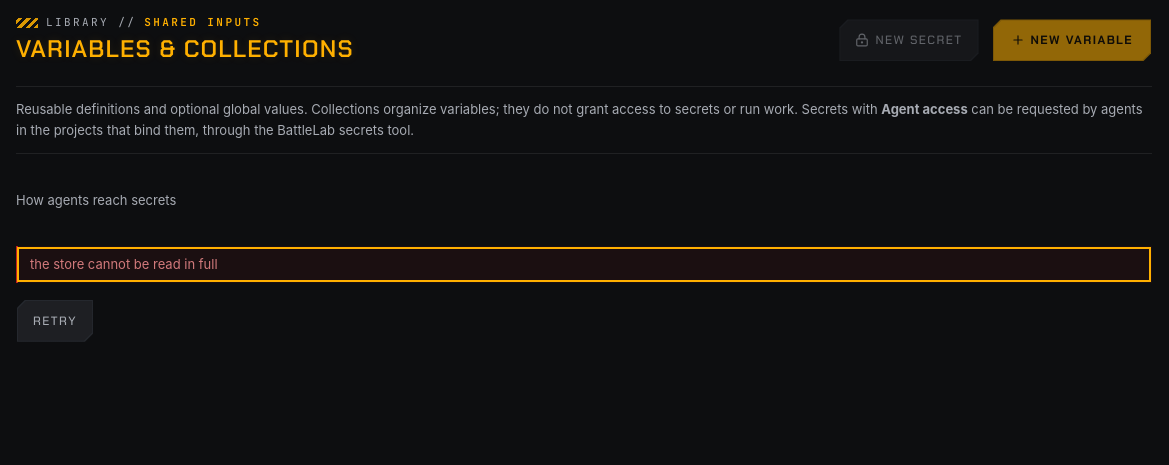
Test: failed loading has a retry and keeps create actions disabled
Check: the message shows "cannot be read in full", box x1=30 y1=256 x2=218 y2=272
Check: the button "New variable" is disabled, box x1=992 y1=18 x2=1152 y2=62
Click the button "Retry" at (55, 321), box x1=16 y1=299 x2=94 y2=343
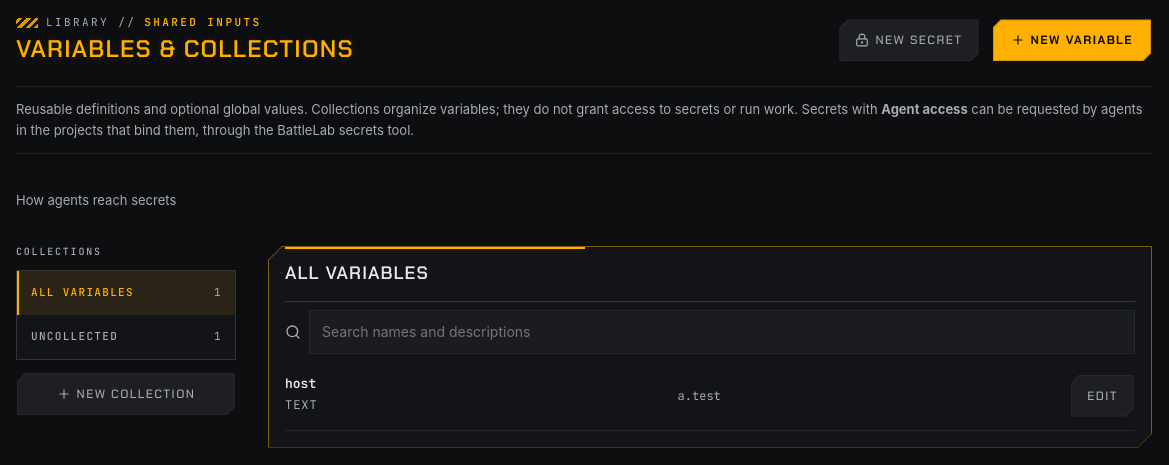
Check: the button with aria-label "Edit host" is enabled, box x1=1070 y1=374 x2=1135 y2=418
